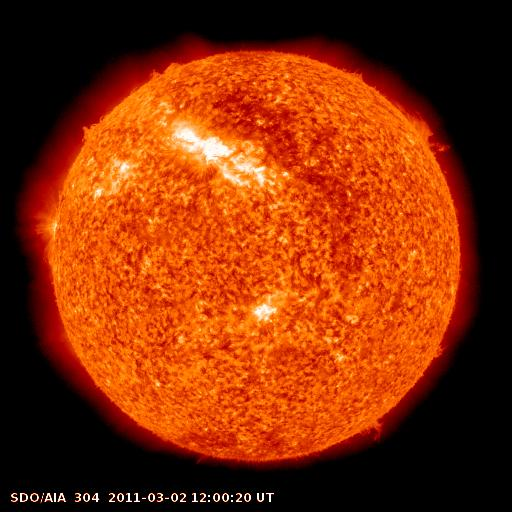prominence: (389, 92, 459, 161), (351, 406, 397, 450), (71, 112, 116, 147), (143, 55, 188, 88)
